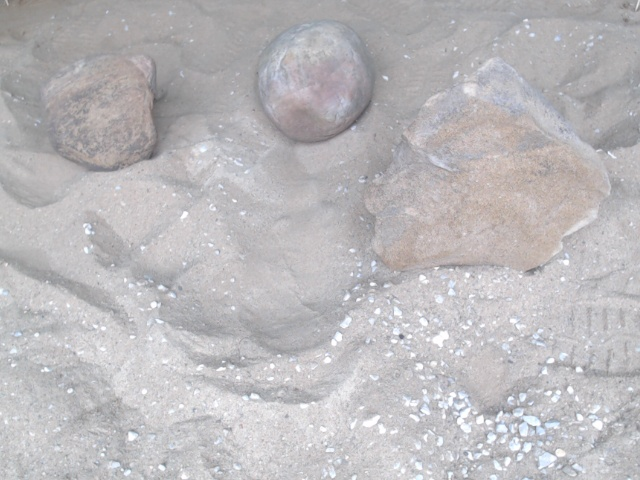rock: (359, 51, 618, 279), (250, 17, 377, 148), (35, 48, 162, 176)
